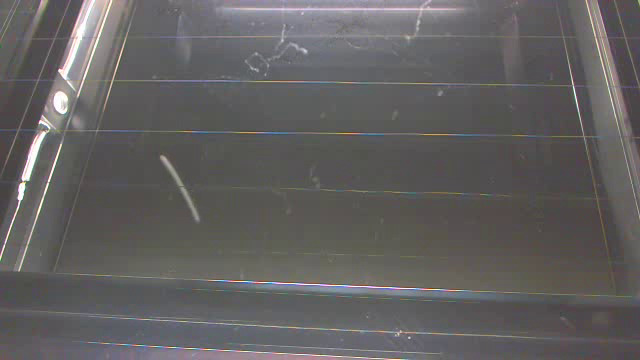alpha: (158, 153, 201, 224)
